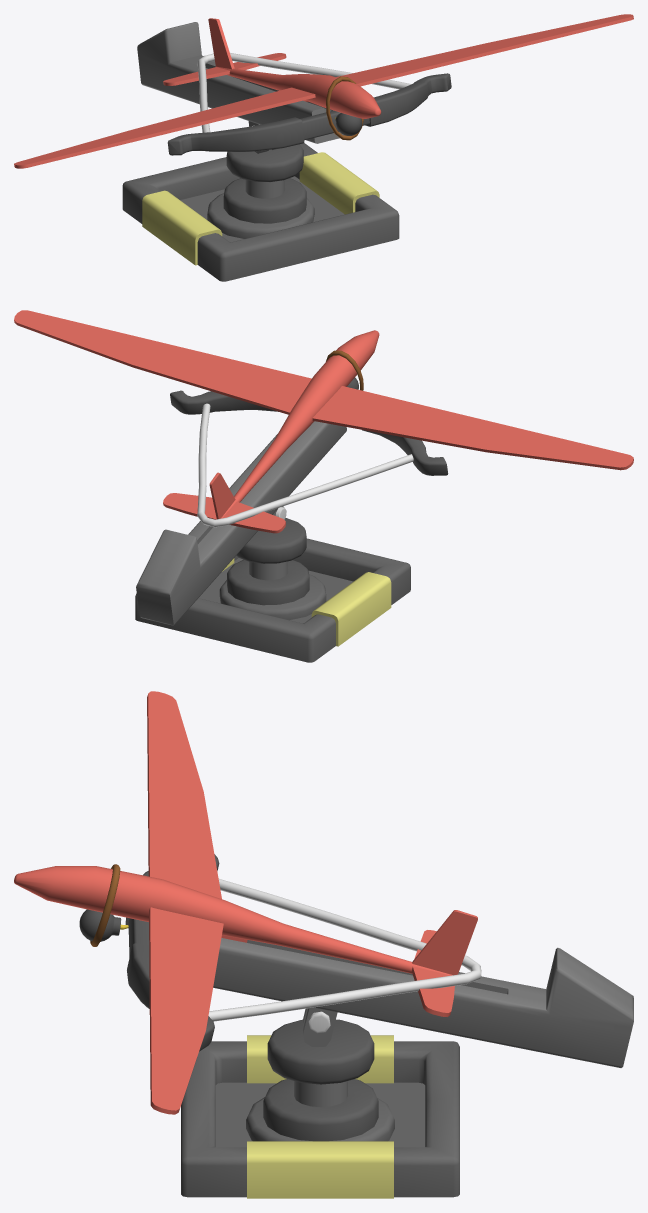
File: jet bomber E.fbx
3 renders of one model, top to bottom at view 1: azimuth 30°, elevation 25°; view 2: azimuth 150°, elevation 25°; view 3: azimuth 270°, elevation 25°, orthographic. The views are drawn at different scales.
Parts seen in each view (by area): view 1: Cube.180, Cube.190, Cube.185, Cube.184, Plane.006; view 2: Cube.190, Cube.180, Cube.185, Cube.184, Plane.006; view 3: Cube.190, Cube.180, Cube.185, Cube.184, Plane.006.
Part boxes in pixels (left/top/right/bottom): Cube.180: left=122, top=143, right=399, bottom=281; Cube.190: left=14, top=14, right=633, bottom=168; Cube.185: left=137, top=22, right=451, bottom=155; Cube.184: left=223, top=144, right=306, bottom=223; Plane.006: left=197, top=53, right=411, bottom=132; Cube.190: left=14, top=310, right=633, bottom=533; Cube.180: left=135, top=538, right=410, bottom=662; Cube.185: left=136, top=390, right=448, bottom=625; Cube.184: left=227, top=518, right=309, bottom=605; Plane.006: left=197, top=403, right=413, bottom=527; Cube.190: left=14, top=691, right=477, bottom=1114; Cube.180: left=181, top=1035, right=459, bottom=1198; Cube.185: left=125, top=854, right=633, bottom=1067; Cube.184: left=263, top=1019, right=378, bottom=1141; Plane.006: left=208, top=879, right=481, bottom=1021.
Size of the model in its own units: 1783 by 551 by 1125.
